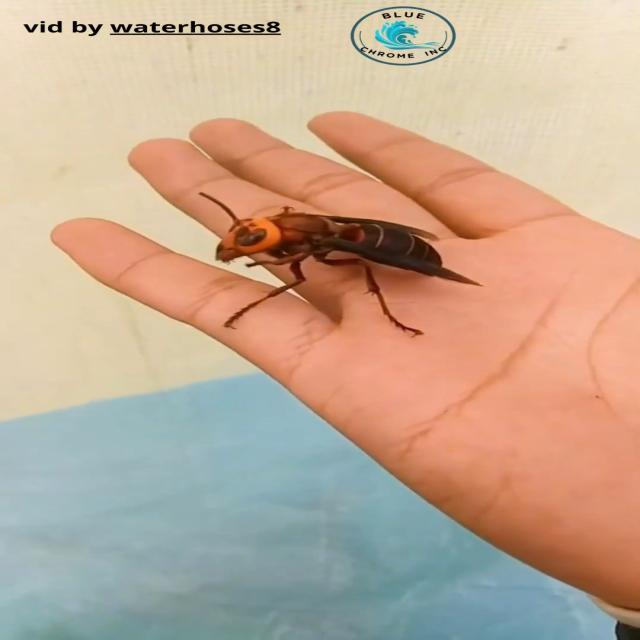Hornets: (196, 192, 483, 340)
